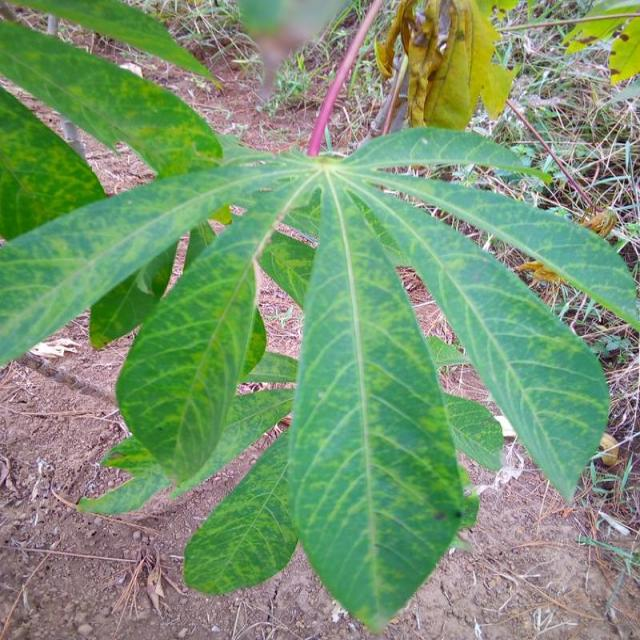cassava leaf: (0, 2, 638, 633), (286, 167, 478, 632)
